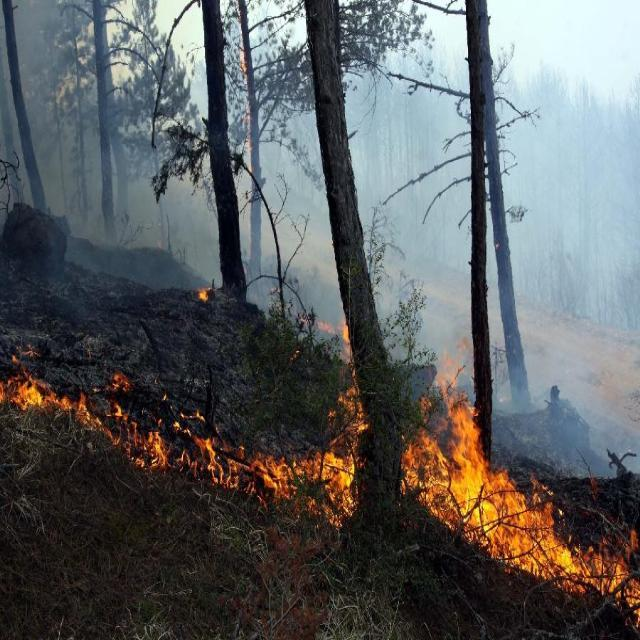Fire: (1, 314, 370, 528), (399, 337, 640, 628), (197, 286, 210, 302)
Smoke: (0, 1, 640, 480)
